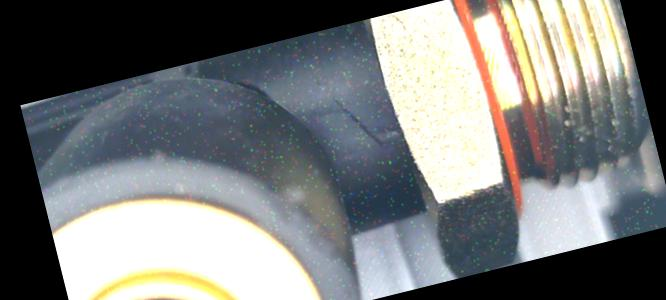craze: (326, 83, 385, 154)
off-centered: (94, 277, 227, 300)
white mark: (380, 118, 407, 140)
